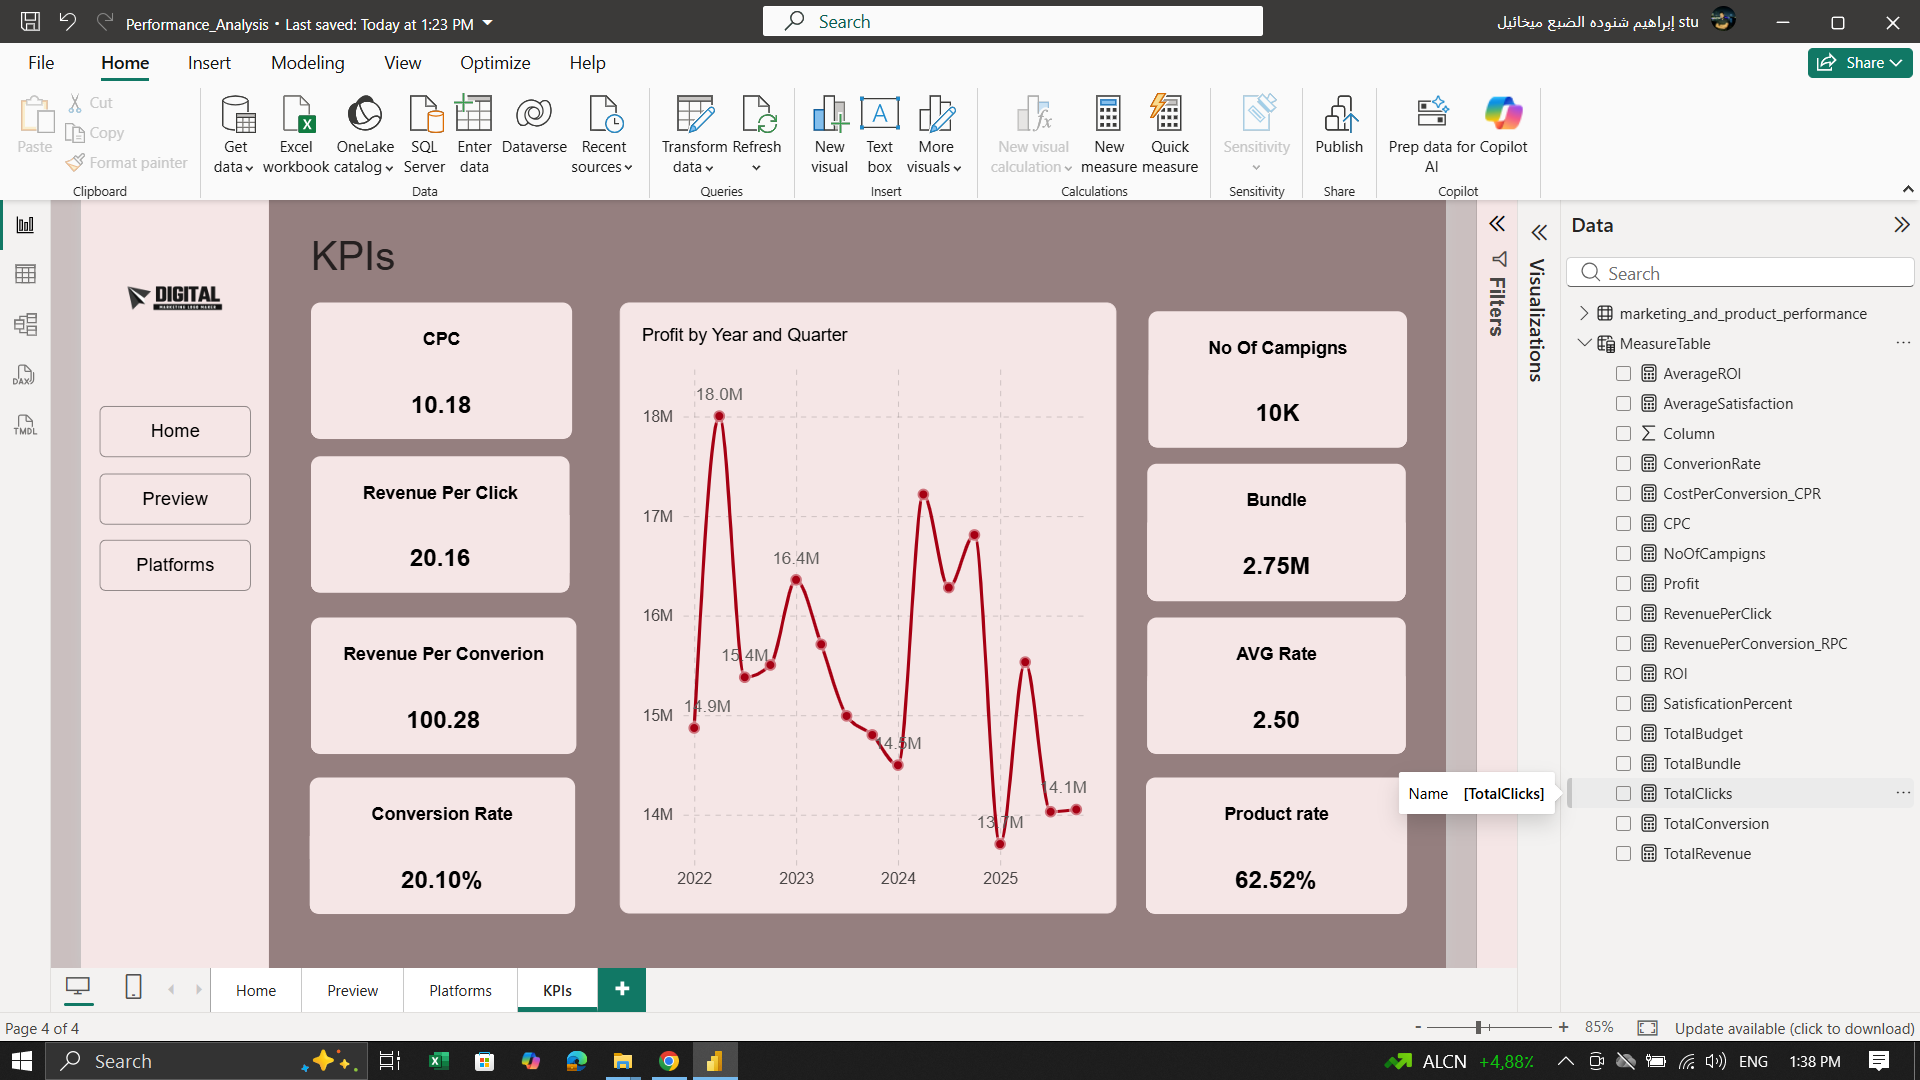

What the dashboard file says about the page in this screenshot:
{"tool":"powerbi","page":{"name":"KPIs","canvas":[1280,720],"ordinal":3},"visuals":[{"type":"shape","box":[0,0,176,720],"z":0,"group":"g2"},{"type":"textbox","title":"Page title","box":[216,32,440,48],"z":0},{"type":"group","id":"g1","title":"Page navigation","box":[16.4,192.2,144.1,175.8],"z":250,"group":"g2"},{"type":"group","id":"g2","title":"Side Bar","box":[0,0,176,720],"z":1000},{"type":"cardVisual","title":"Revenue Per Click","fields":{"Data":["MeasureTable.RevenuePerClick"]},"box":[215.6,240.2,242.6,127.7],"z":2000},{"type":"cardVisual","title":"Revenue Per Converion","fields":{"Data":["MeasureTable.RevenuePerConversion_RPC"]},"box":[479.3,96.1,248.4,127.7],"z":3000},{"type":"cardVisual","title":"Bundle","fields":{"Data":["MeasureTable.TotalBundle"]},"box":[999.6,239.1,242.6,128.9],"z":4000},{"type":"cardVisual","title":"Product rate","fields":{"Data":["MeasureTable.SatisficationPercent"]},"box":[746.5,97.3,244.9,127.7],"z":5000},{"type":"cardVisual","title":"AVG Rate","fields":{"Data":["MeasureTable.AverageSatisfaction"]},"box":[746.5,241.4,242.6,127.7],"z":6000},{"type":"cardVisual","title":"Conversion Rate","fields":{"Data":["MeasureTable.ConverionRate"]},"box":[479.3,240.2,248.4,127.7],"z":7000},{"type":"cardVisual","title":"No Of  Campigns","fields":{"Data":["MeasureTable.NoOfCampigns"]},"box":[999.6,97.3,242.6,127.7],"z":8000},{"type":"cardVisual","title":"CPC","fields":{"Data":["MeasureTable.CPC"]},"box":[215.6,96.1,244.9,127.7],"z":9000},{"type":"areaChart","fields":{"Y":["MeasureTable.Profit"],"Category":["marketing_and_product_performance.Date.Variation.Date Hierarchy.Year","marketing_and_product_performance.Date.Variation.Date Hierarchy.Quarter"]},"box":[215.6,391.4,1026.6,302.3],"z":10000},{"type":"image","box":[0,0,175.8,184],"z":11000},{"type":"actionButton","box":[16.4,317.8,144.1,50.2],"z":13000,"group":"g1"},{"type":"actionButton","box":[16.4,255,144.1,50.2],"z":14000,"group":"g1"},{"type":"actionButton","box":[16.4,192.2,144.1,50.2],"z":15000,"group":"g1"}]}

Visuals, with their boxes on the page's 1280x720 design canvas (x1, y1, x2, y2). These are canvas units, not pixel positions in the 1920x1080 screenshot, which may show the page scaled, cropped or inside an application window:
shape: bbox=(0, 0, 176, 720)
"Page title" textbox: bbox=(216, 32, 656, 80)
"Page navigation" group: bbox=(16, 192, 160, 368)
"Side Bar" group: bbox=(0, 0, 176, 720)
"Revenue Per Click" cardVisual: bbox=(216, 240, 458, 368)
"Revenue Per Converion" cardVisual: bbox=(479, 96, 728, 224)
"Bundle" cardVisual: bbox=(1000, 239, 1242, 368)
"Product rate" cardVisual: bbox=(746, 97, 991, 225)
"AVG Rate" cardVisual: bbox=(746, 241, 989, 369)
"Conversion Rate" cardVisual: bbox=(479, 240, 728, 368)
"No Of  Campigns" cardVisual: bbox=(1000, 97, 1242, 225)
"CPC" cardVisual: bbox=(216, 96, 460, 224)
areaChart - MeasureTable.Profit x marketing_and_product_performance.Date.Variation.Date Hierarchy.Year: bbox=(216, 391, 1242, 694)
image: bbox=(0, 0, 176, 184)
actionButton: bbox=(16, 318, 160, 368)
actionButton: bbox=(16, 255, 160, 305)
actionButton: bbox=(16, 192, 160, 242)
